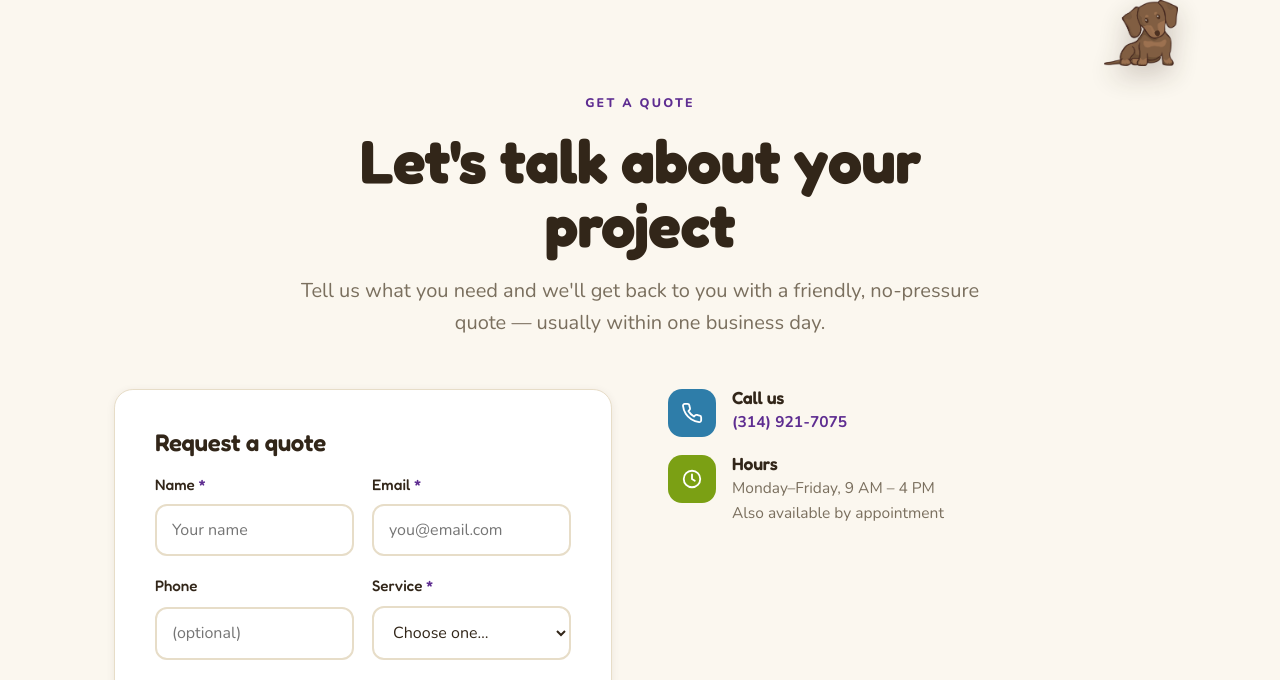
Contact form submission › asks for verification instead of sending when the widget has not been solved
The image size is (1280, 680).
Type "Jeff Grenard" into the field labelled "Name *".
click(254, 530); type("Jeff Grenard")  # box top-left (155, 504), bottom-right (354, 556)
Type "jeff@customer.test" into the field labelled "Email *".
click(472, 530); type("jeff@customer.test")  # box top-left (372, 504), bottom-right (571, 556)
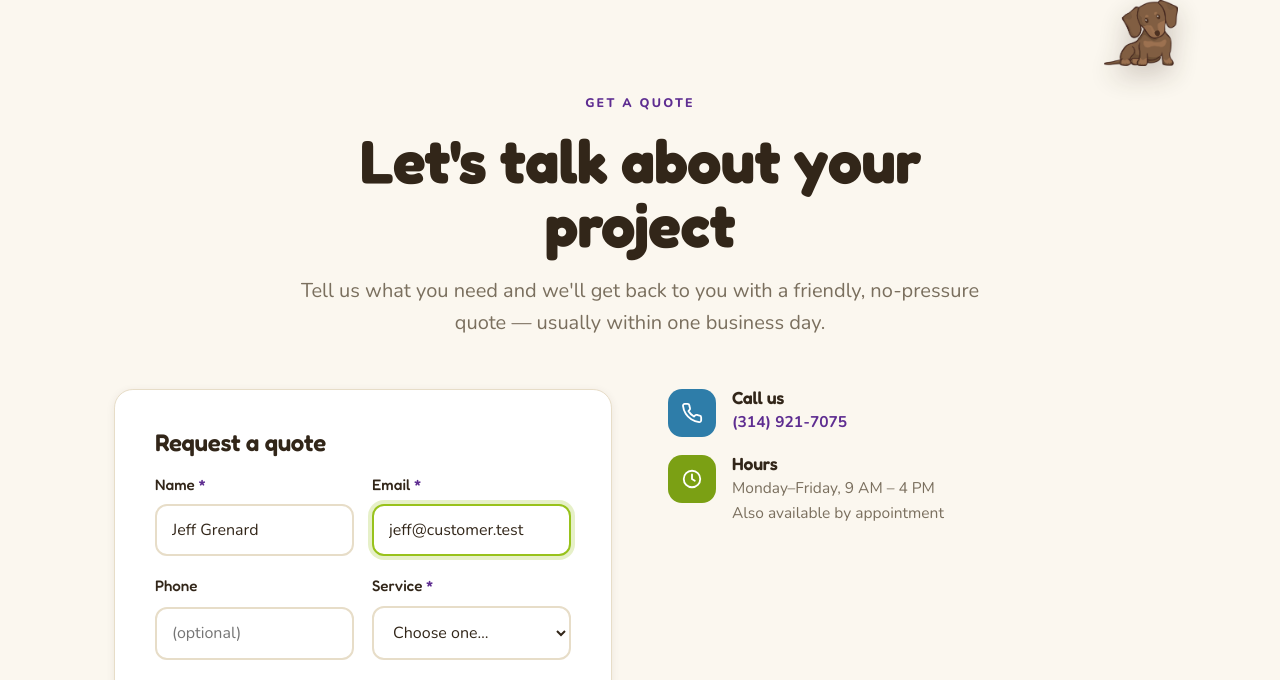
Type "314-555-0100" into the field labelled "Phone".
click(254, 633); type("314-555-0100")  # box top-left (155, 607), bottom-right (354, 660)
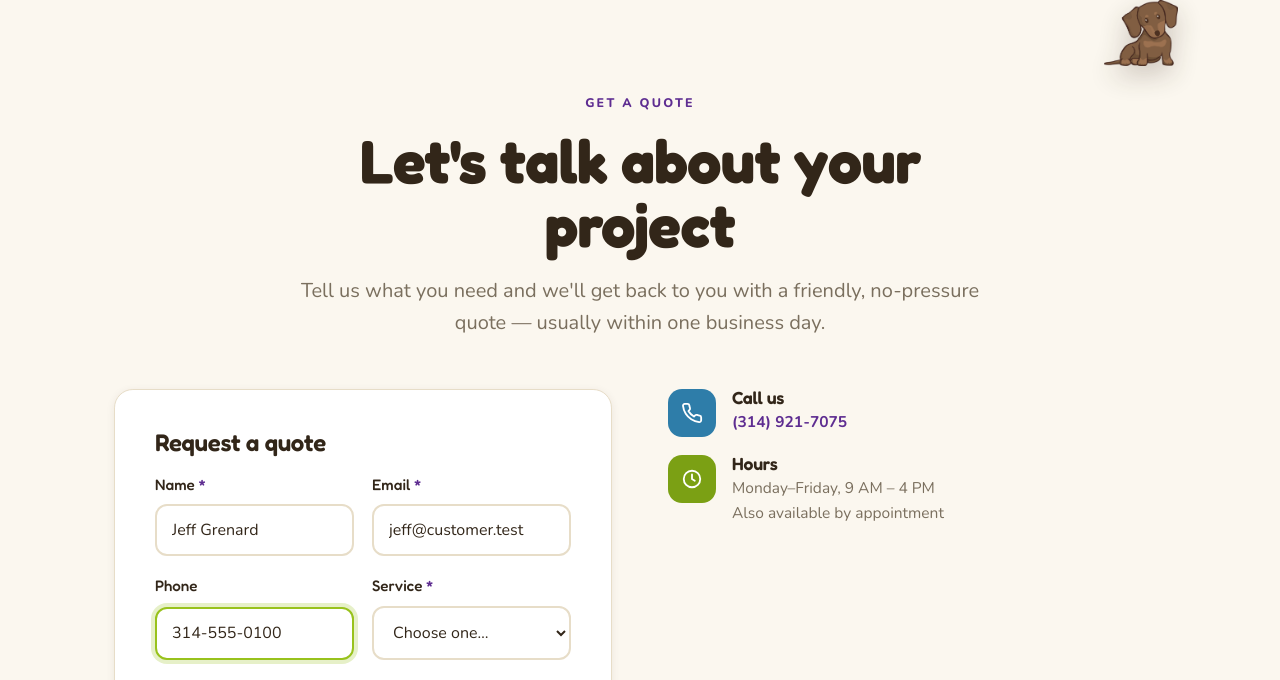
Select "Screen Printing" in the dropdown labelled "Service *" at coordinates (472, 633), box top-left (372, 606), bottom-right (571, 660)
(page scrolled)
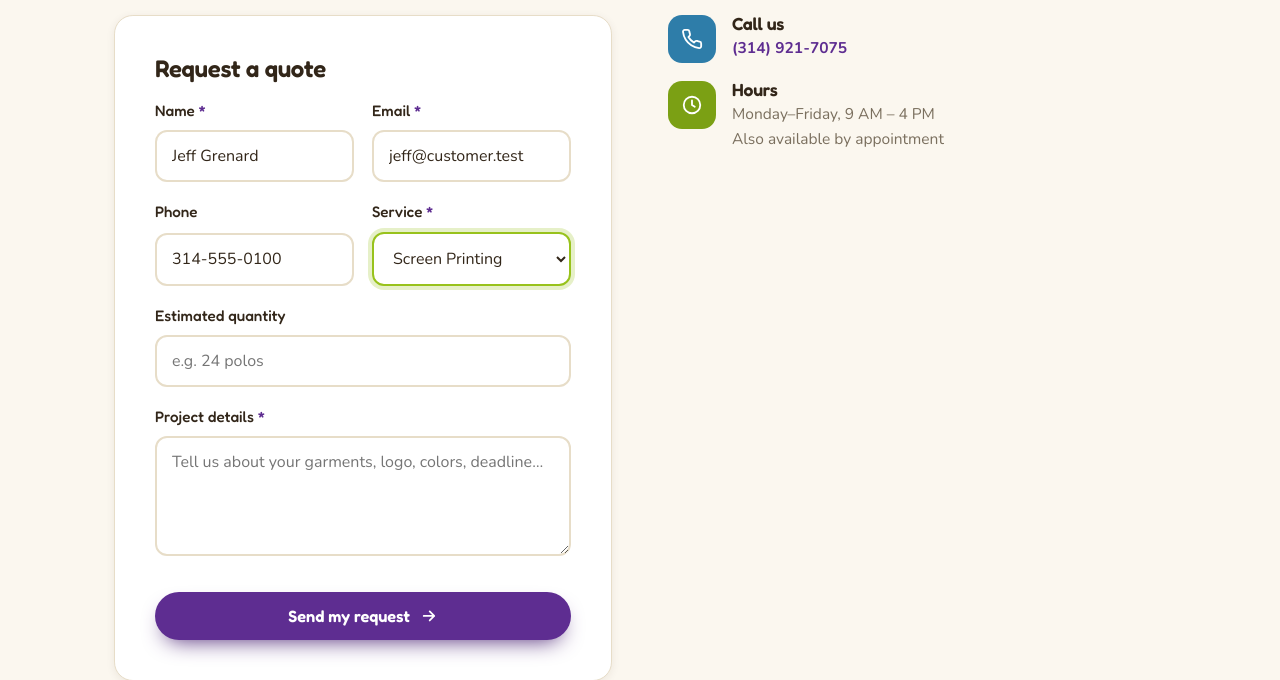
Type "24 hoodies" into the field labelled "Estimated quantity".
click(363, 361); type("24 hoodies")  # box top-left (155, 335), bottom-right (571, 387)
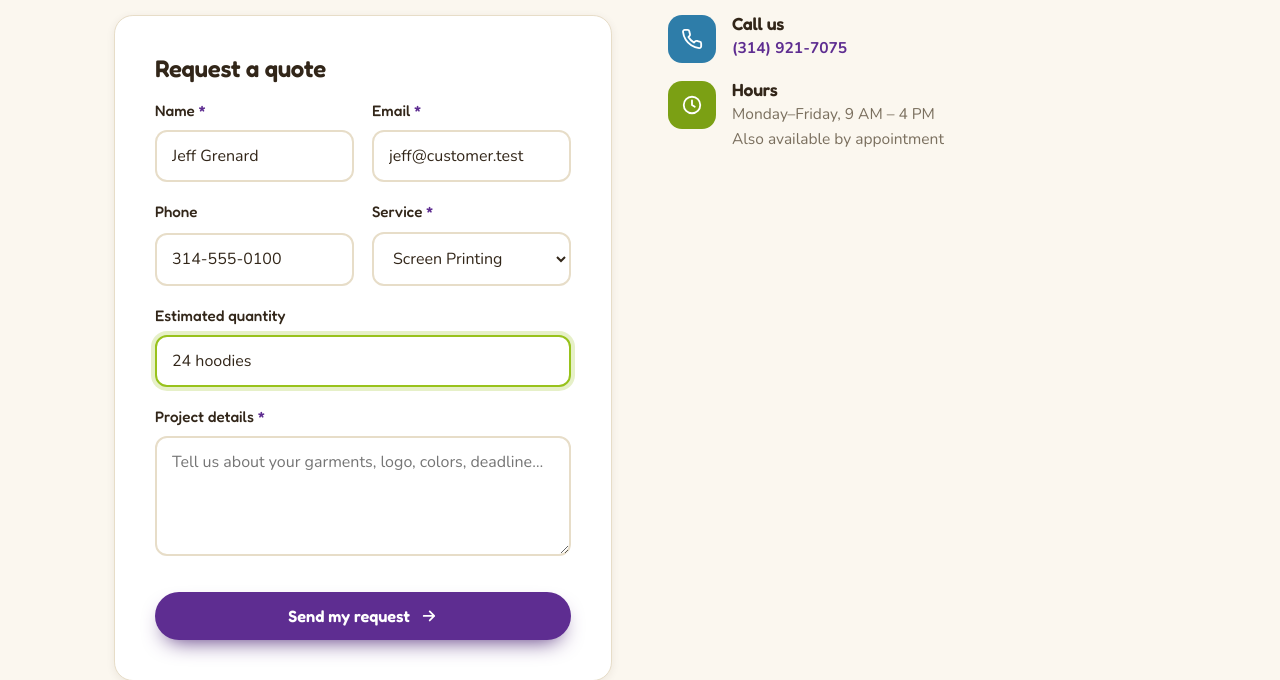
Type "Spring league hoodies" into the text box labelled "Project details *".
click(363, 496); type("Spring league hoodies")  # box top-left (155, 436), bottom-right (571, 556)
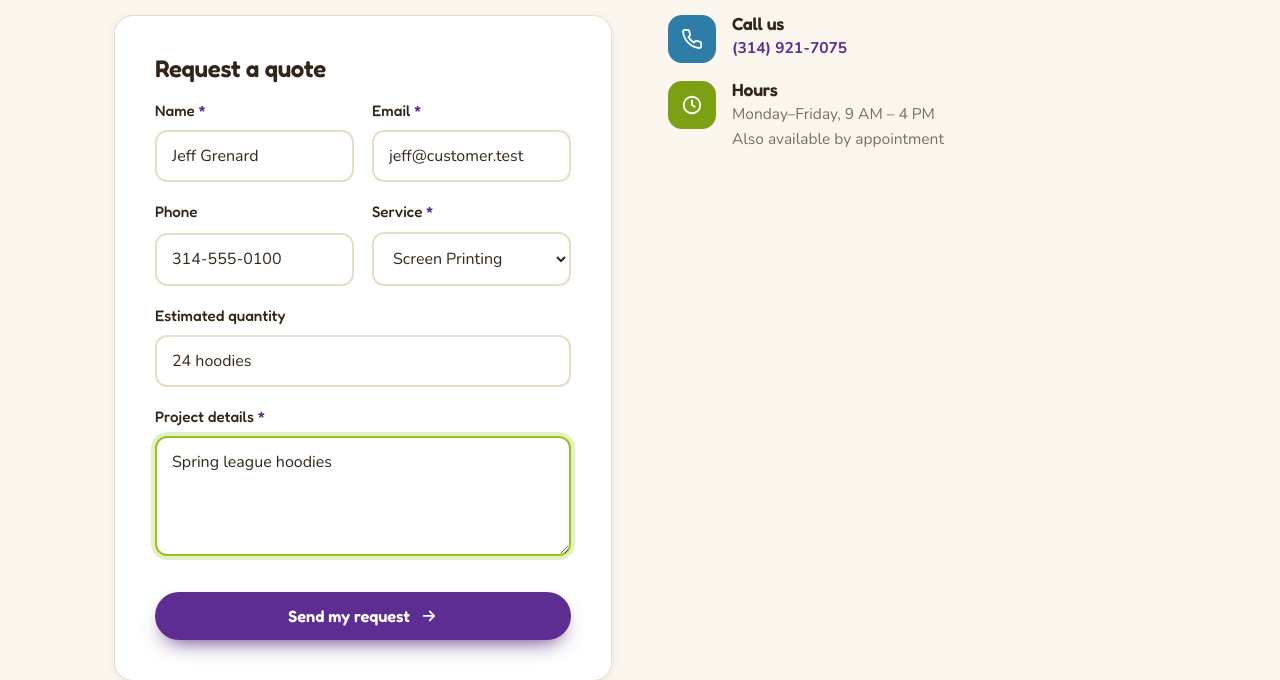
Click the button "Send my request".
click(363, 616)  # box top-left (155, 592), bottom-right (571, 640)
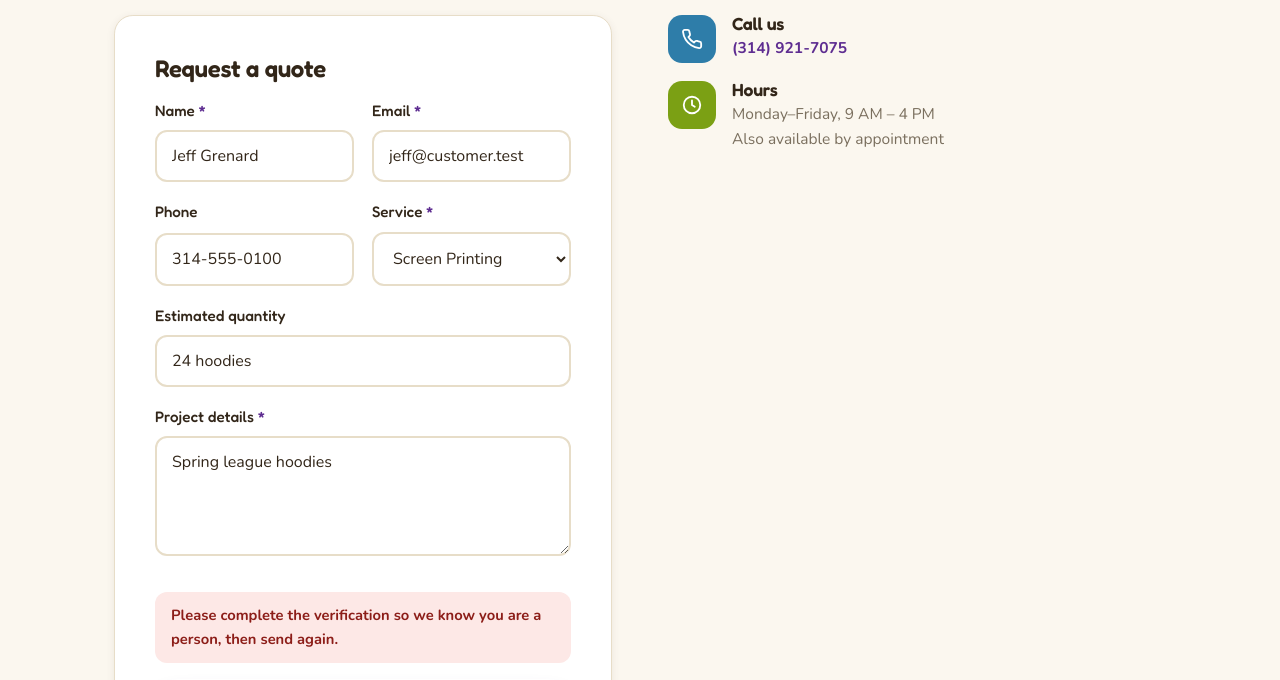
Expected: the message shows "verif", top-left (171, 605), bottom-right (541, 649)
